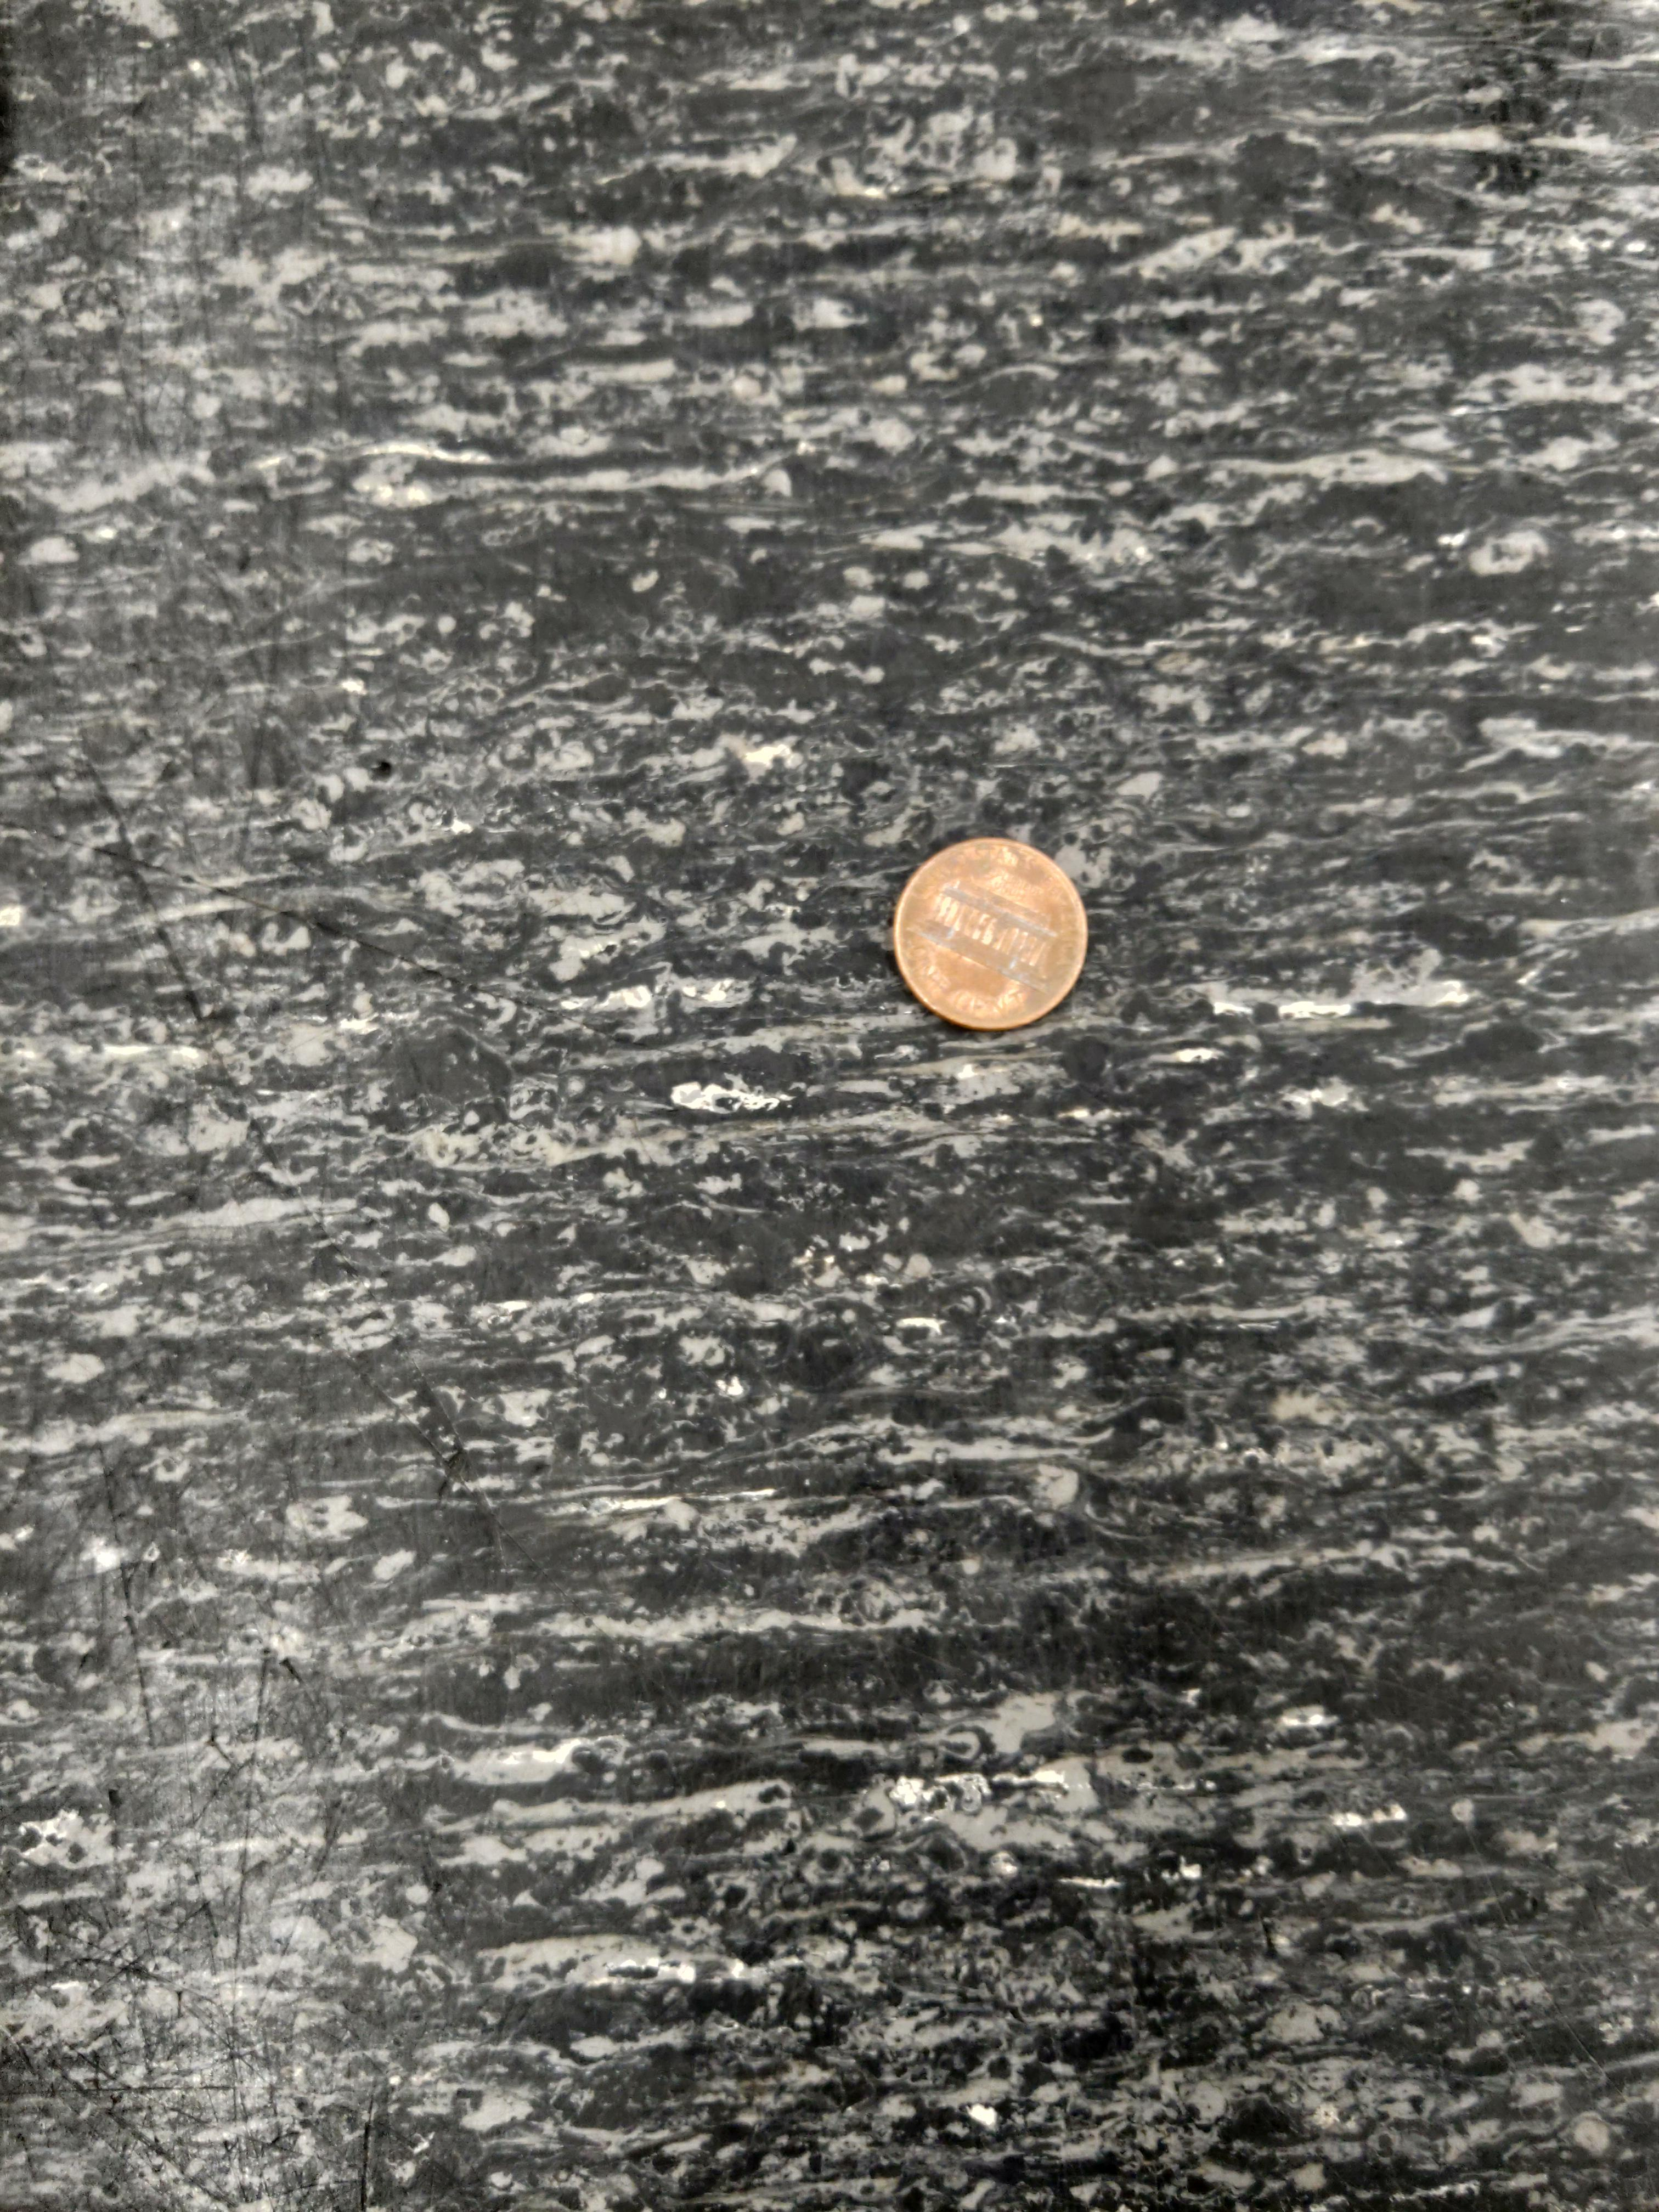Penny: (892, 834, 1089, 1035)
